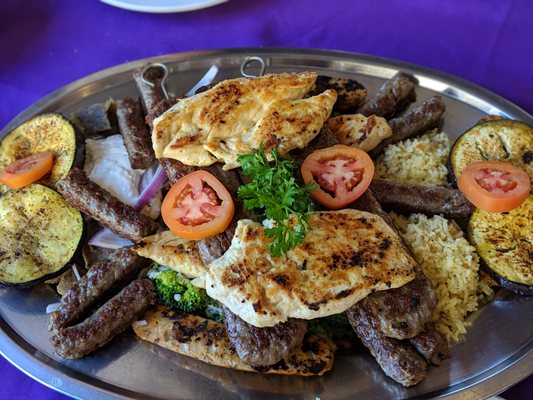curry: (152, 268, 222, 320)
